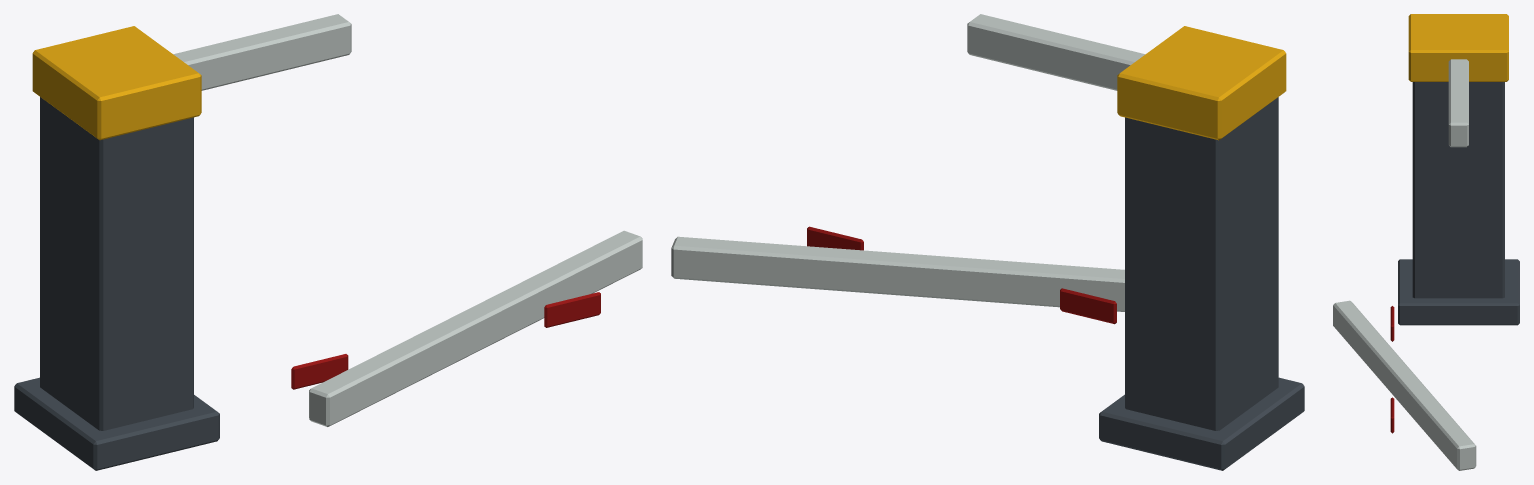
The model's file is BrokenBarrierGate.fbx.
3 views of the same model, side by side, from view 1: azimuth 30°, elevation 25°; view 2: azimuth 150°, elevation 25°; view 3: azimuth 270°, elevation 25° (orthographic). The views are drawn at different scales.
Visible parts, largest first — view 1: BrokenBarrierGate; view 2: BrokenBarrierGate; view 3: BrokenBarrierGate.
Boxes of the visible parts, x1,y1,x2,y2 form: BrokenBarrierGate: (14, 14, 642, 470); BrokenBarrierGate: (671, 14, 1304, 470); BrokenBarrierGate: (1333, 14, 1519, 470).
Bounding box in the file's own units: 186 × 110 × 68.89.
Materials: 1 (1 with a texture image).
